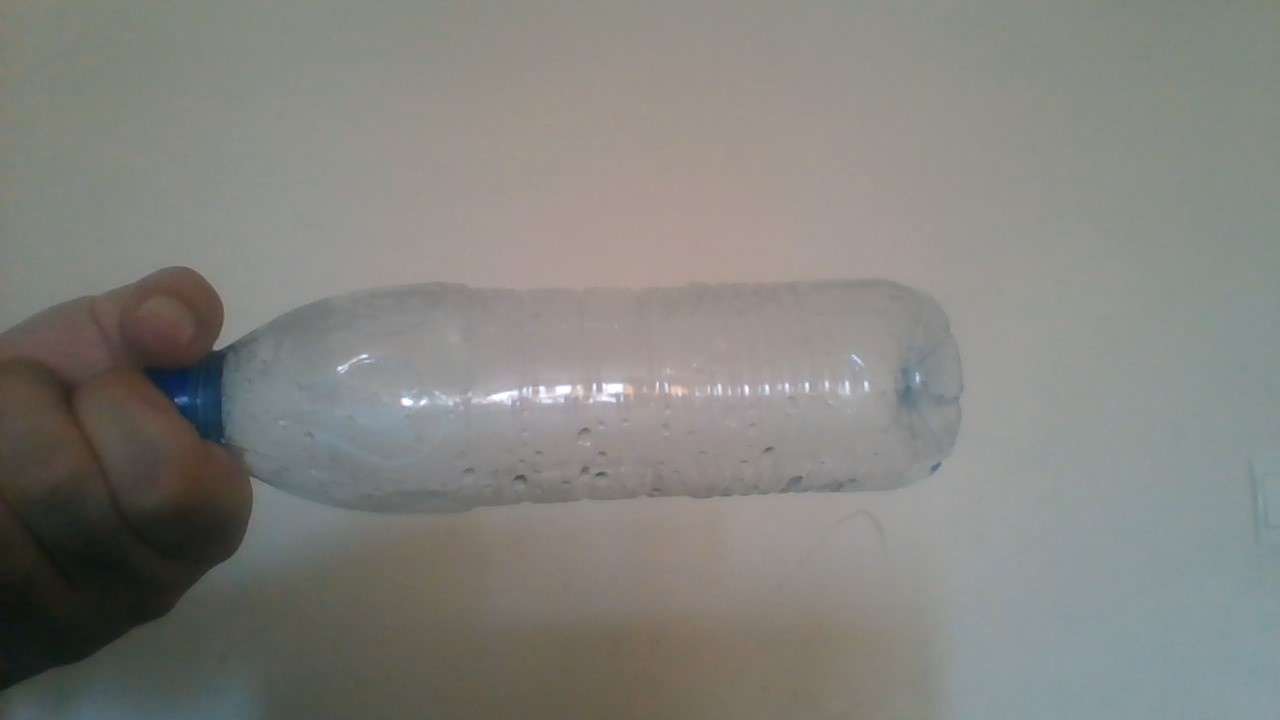plastic: (224, 278, 976, 526)
